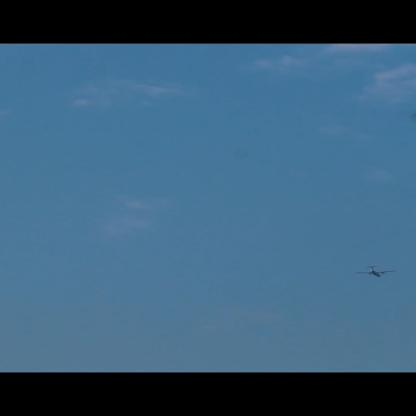plane: (355, 266, 396, 277)
